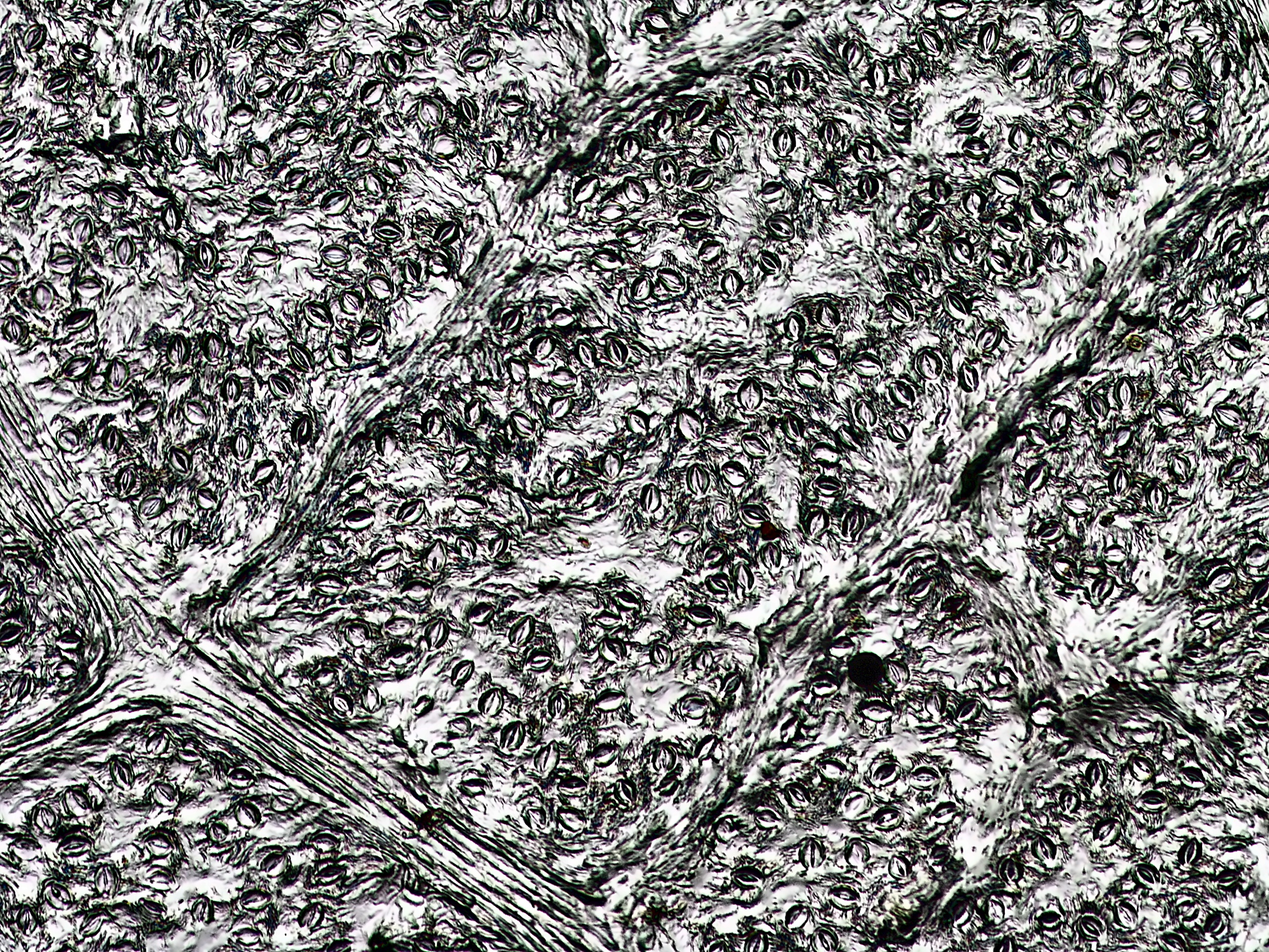stomata: (312, 572, 351, 597), (508, 613, 535, 649), (883, 293, 916, 322), (535, 739, 560, 777), (288, 341, 316, 374), (109, 758, 136, 792), (1054, 10, 1084, 40), (615, 131, 644, 162), (394, 497, 425, 526), (915, 346, 942, 379), (828, 882, 861, 909), (146, 828, 176, 857), (1091, 820, 1121, 849), (302, 300, 333, 328), (843, 837, 871, 868), (738, 379, 765, 411), (343, 503, 375, 530), (868, 759, 902, 784), (44, 881, 73, 910), (1145, 479, 1169, 514), (653, 155, 679, 187), (686, 464, 712, 496), (557, 807, 590, 832), (1108, 465, 1133, 498), (1113, 897, 1138, 930), (454, 489, 488, 513), (529, 333, 558, 361), (917, 27, 944, 57), (1165, 62, 1195, 89), (1008, 122, 1035, 152), (720, 268, 746, 299), (1063, 491, 1094, 517), (656, 267, 688, 292), (652, 741, 677, 773), (166, 334, 190, 367), (1111, 376, 1135, 409), (886, 656, 910, 689), (416, 98, 444, 126), (341, 468, 370, 495), (97, 864, 120, 898), (9, 836, 43, 859), (320, 189, 350, 215), (150, 781, 180, 807), (839, 790, 869, 816), (764, 216, 795, 241), (677, 408, 702, 439), (371, 547, 402, 572), (862, 696, 893, 721), (426, 616, 448, 651), (820, 117, 844, 149), (809, 440, 841, 464), (1044, 233, 1068, 265), (929, 801, 961, 825), (61, 356, 94, 379), (948, 237, 975, 265), (944, 292, 971, 320), (1222, 231, 1248, 260), (1242, 295, 1268, 324), (1207, 567, 1236, 593), (148, 866, 178, 891), (995, 216, 1025, 241), (1120, 30, 1154, 52), (592, 689, 626, 711), (908, 766, 942, 788), (32, 800, 56, 831), (961, 135, 992, 159), (843, 508, 867, 539), (781, 410, 805, 441), (319, 243, 351, 266), (1025, 462, 1048, 494), (1085, 759, 1108, 791), (1137, 789, 1169, 812), (980, 20, 1001, 55), (2, 316, 29, 343), (784, 782, 811, 809), (65, 788, 91, 816), (262, 849, 288, 877), (426, 540, 448, 573), (71, 215, 96, 244), (740, 503, 769, 528), (810, 672, 839, 697), (957, 362, 981, 392), (331, 46, 354, 77), (422, 408, 445, 439), (501, 719, 524, 750), (105, 358, 127, 390), (221, 374, 243, 406), (372, 219, 404, 241), (733, 562, 755, 594), (711, 817, 743, 839), (56, 836, 93, 855), (1182, 23, 1217, 43), (479, 686, 504, 714), (1215, 402, 1243, 427), (598, 451, 622, 480), (681, 693, 710, 717), (741, 433, 770, 457), (858, 174, 882, 203), (998, 855, 1022, 884), (1031, 195, 1052, 228), (873, 809, 906, 830), (731, 867, 764, 888), (457, 96, 480, 126), (894, 56, 917, 86), (1182, 235, 1205, 265), (924, 843, 954, 866), (934, 0, 970, 19), (64, 308, 95, 330), (291, 415, 313, 446), (774, 127, 796, 158), (817, 758, 848, 780), (677, 209, 711, 229), (1046, 136, 1072, 162), (890, 380, 916, 406), (749, 73, 774, 100), (1047, 172, 1074, 197), (506, 358, 531, 385), (976, 326, 1001, 353), (173, 127, 194, 159), (214, 153, 235, 185), (193, 239, 214, 271), (422, 0, 454, 21), (756, 248, 780, 276), (498, 305, 522, 333), (759, 542, 783, 570), (816, 301, 840, 329), (800, 840, 824, 868), (1179, 765, 1207, 789), (31, 283, 54, 312), (276, 30, 305, 53), (228, 764, 257, 787), (297, 903, 326, 926), (594, 247, 623, 270), (396, 33, 426, 55), (230, 431, 252, 461), (712, 130, 734, 160), (866, 60, 888, 90), (452, 657, 474, 687), (814, 474, 844, 496), (190, 50, 211, 81), (115, 236, 136, 267), (461, 50, 492, 71), (793, 368, 824, 389), (573, 176, 598, 202), (1225, 457, 1251, 482), (1244, 542, 1269, 568), (956, 699, 982, 724), (1038, 907, 1064, 932), (99, 182, 126, 206), (139, 495, 166, 519), (434, 219, 461, 243), (644, 7, 671, 31), (1011, 51, 1035, 78), (1109, 151, 1133, 178), (512, 411, 536, 438), (917, 209, 941, 236), (1032, 836, 1056, 863), (229, 25, 252, 53), (591, 743, 619, 766), (311, 832, 343, 852), (616, 225, 648, 245), (378, 427, 398, 459), (49, 253, 78, 275), (286, 121, 315, 143), (1209, 51, 1231, 80), (307, 664, 336, 686), (722, 462, 751, 484), (1200, 279, 1222, 308), (1225, 336, 1254, 358), (17, 906, 38, 936), (606, 336, 627, 366), (450, 446, 471, 476), (687, 604, 717, 625), (751, 808, 781, 829), (23, 25, 48, 50), (624, 177, 649, 202), (1051, 554, 1076, 579), (684, 101, 710, 125), (547, 394, 573, 418), (599, 637, 625, 661), (785, 903, 809, 929), (228, 103, 255, 126), (280, 79, 303, 106), (270, 373, 293, 400), (251, 459, 274, 486), (236, 801, 259, 828), (696, 239, 723, 262), (1124, 94, 1151, 117), (1180, 353, 1203, 380), (241, 889, 272, 909), (808, 179, 839, 199), (191, 895, 213, 923), (993, 171, 1021, 193), (812, 345, 840, 367), (924, 687, 946, 715), (203, 333, 224, 362), (234, 924, 263, 945), (403, 581, 432, 602), (640, 484, 661, 513), (853, 354, 882, 375), (1095, 71, 1114, 103), (1191, 608, 1223, 627), (249, 245, 279, 265), (689, 168, 714, 192), (155, 93, 181, 116), (854, 398, 877, 424), (835, 426, 861, 449), (693, 736, 719, 759), (1205, 911, 1228, 937), (116, 468, 138, 495), (1, 617, 23, 644), (1187, 98, 1209, 125), (386, 613, 413, 635), (460, 774, 487, 796), (1180, 838, 1202, 865), (172, 521, 191, 552), (592, 610, 623, 629), (577, 340, 598, 368), (464, 399, 485, 427), (1049, 405, 1070, 433), (1087, 392, 1108, 420), (146, 45, 166, 74), (140, 896, 169, 916), (550, 690, 570, 719), (361, 684, 381, 713), (615, 777, 635, 806), (853, 137, 873, 166), (368, 274, 392, 298), (952, 896, 970, 928), (247, 144, 272, 167), (361, 82, 386, 105), (433, 135, 458, 158), (146, 730, 169, 755), (329, 692, 352, 717), (908, 577, 933, 600), (45, 73, 71, 95), (133, 400, 159, 422), (169, 449, 191, 475), (1066, 105, 1092, 127), (828, 634, 854, 656), (1134, 864, 1160, 886), (483, 142, 502, 172), (402, 258, 421, 288), (141, 142, 162, 169), (783, 313, 804, 340), (808, 508, 828, 536), (1170, 454, 1190, 482), (558, 778, 589, 796), (184, 400, 208, 423), (80, 912, 103, 936), (1068, 65, 1091, 89), (813, 929, 837, 952), (1078, 916, 1102, 939), (163, 205, 182, 234), (789, 65, 808, 94), (1157, 933, 1186, 952), (78, 276, 103, 298), (1174, 900, 1199, 922), (651, 643, 672, 669), (887, 104, 913, 125), (102, 427, 122, 454), (385, 52, 405, 79), (759, 183, 786, 203), (673, 525, 700, 545), (931, 178, 951, 205), (486, 0, 514, 19), (499, 96, 527, 115), (50, 659, 78, 678), (654, 107, 673, 135), (954, 113, 982, 132), (986, 898, 1005, 926), (346, 623, 369, 646), (56, 430, 80, 452), (427, 252, 451, 274), (358, 324, 382, 346), (1026, 424, 1050, 446), (1132, 754, 1154, 778), (315, 865, 346, 882), (10, 673, 31, 698), (628, 410, 649, 435), (487, 533, 508, 558), (987, 253, 1012, 274), (1214, 869, 1243, 887), (185, 0, 211, 20), (250, 194, 276, 214), (468, 603, 494, 623), (705, 573, 731, 593), (964, 189, 984, 215), (1093, 574, 1112, 601), (846, 38, 863, 68), (1152, 402, 1182, 419), (340, 291, 362, 314), (388, 643, 411, 665), (524, 806, 547, 828), (455, 536, 476, 560), (722, 671, 743, 695), (0, 253, 19, 279), (548, 307, 574, 326), (56, 633, 85, 650), (597, 203, 626, 220), (490, 430, 508, 457), (613, 590, 640, 608), (364, 175, 386, 197), (704, 544, 726, 566), (286, 168, 309, 189), (523, 0, 544, 23), (1171, 300, 1194, 321), (1038, 518, 1061, 539), (1059, 791, 1080, 814), (449, 716, 473, 736), (1184, 644, 1212, 661), (7, 192, 32, 211), (552, 368, 577, 387), (528, 650, 553, 669), (1019, 247, 1038, 272), (1103, 546, 1128, 565), (633, 274, 651, 300), (331, 345, 352, 367), (1109, 426, 1131, 447), (352, 135, 372, 158), (911, 261, 928, 288), (195, 489, 219, 508), (311, 96, 335, 115), (330, 116, 349, 140), (1, 118, 19, 143), (318, 11, 344, 28), (1187, 138, 1208, 159), (554, 465, 574, 487), (888, 421, 910, 441), (1229, 271, 1249, 293), (747, 932, 769, 952), (1255, 580, 1269, 611), (178, 746, 203, 763), (401, 864, 418, 889), (253, 77, 274, 97), (207, 823, 229, 842), (1142, 131, 1165, 149), (412, 694, 432, 714), (384, 159, 406, 177), (1248, 706, 1269, 724), (0, 65, 16, 87), (70, 47, 95, 61), (993, 937, 1016, 952), (0, 581, 13, 607), (432, 742, 452, 757), (890, 856, 905, 876), (1136, 0, 1158, 13), (1253, 621, 1269, 637), (1258, 662, 1269, 680)
